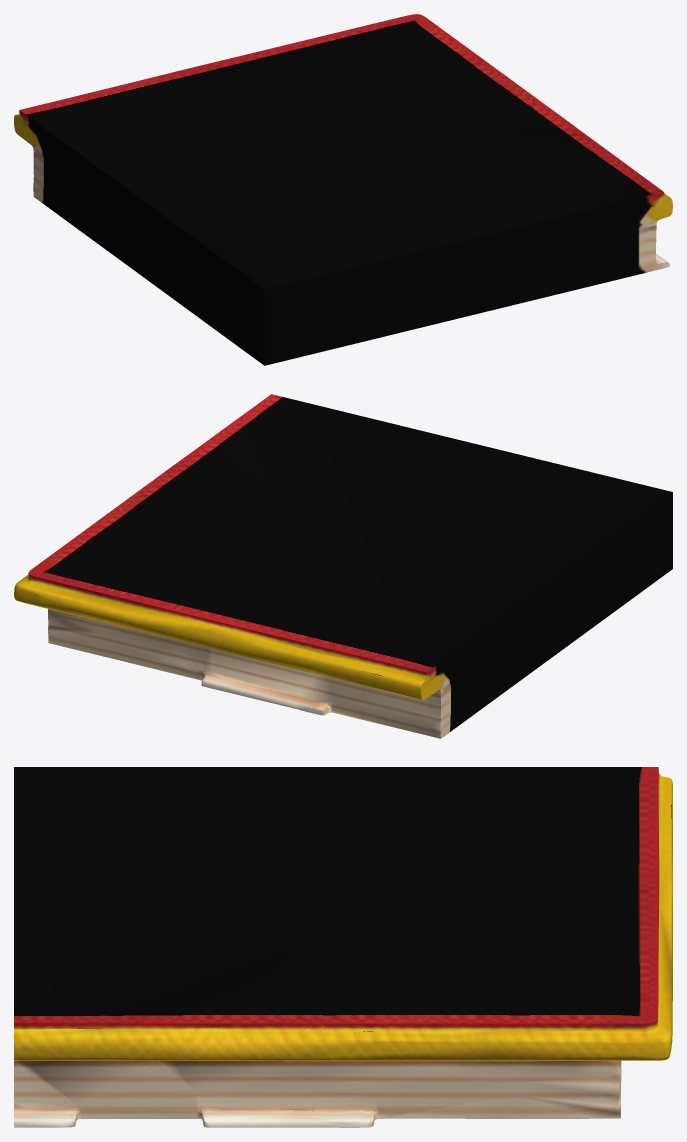
The model's file is 12-roof-back-right.fbx.
The picture shows the model from 3 angles, top to bottom: view 1: azimuth 30°, elevation 25°; view 2: azimuth 150°, elevation 25°; view 3: azimuth 270°, elevation 25°; orthographic projection. The views are drawn at different scales.
Visible parts, largest first — view 1: roof-back-right; view 2: roof-back-right; view 3: roof-back-right.
Part boxes in pixels (box(x1,y1,x2,y2)): roof-back-right: box(14, 14, 672, 365); roof-back-right: box(14, 394, 672, 738); roof-back-right: box(14, 767, 672, 1127).
Bounding box in the file's own units: 4225 × 756 × 4488.
1 material, 1 textured.
